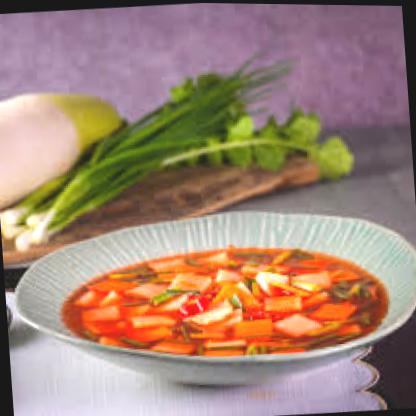nabak Kimchi: (57, 233, 394, 378)
